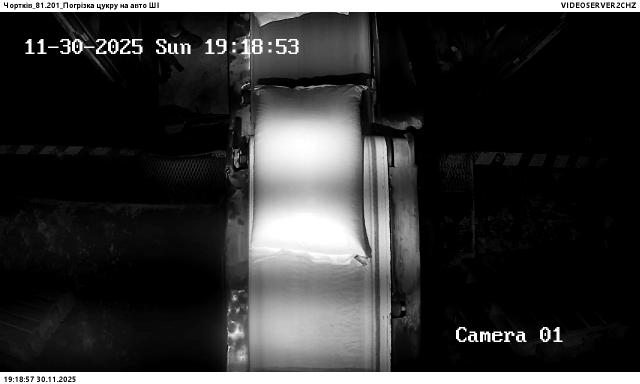bag: (252, 84, 372, 264), (255, 12, 356, 26)
